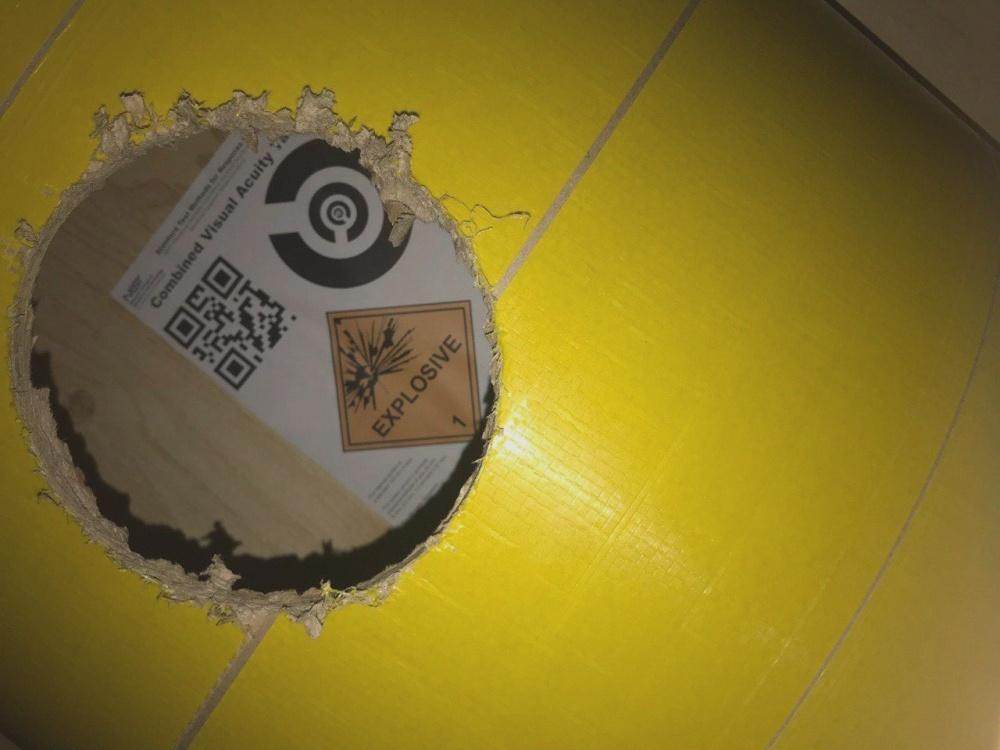explosive: (326, 296, 479, 461)
